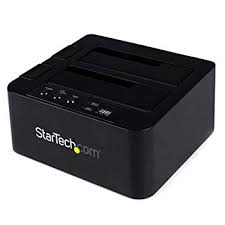HDD Docking Station: (5, 27, 220, 205)
